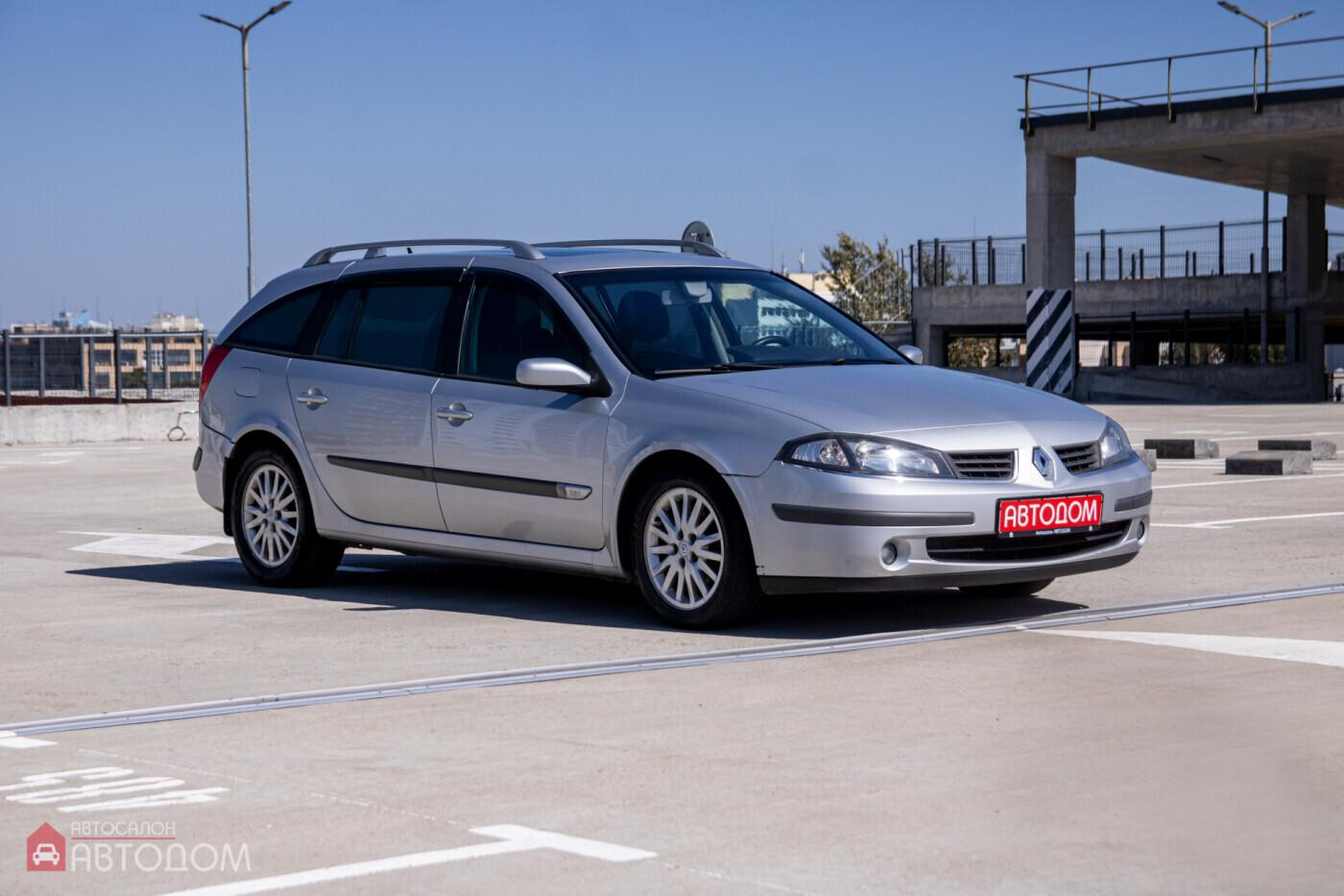Laguna_2005-2007: (191, 229, 1163, 624)
